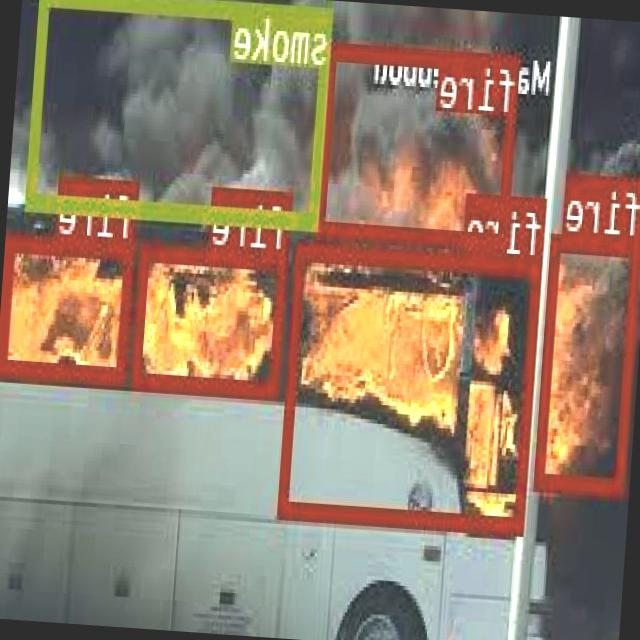fire: (280, 240, 544, 532), (317, 40, 522, 247), (535, 231, 640, 490), (132, 241, 290, 396), (1, 232, 138, 380)
smoke: (27, 0, 334, 228)
